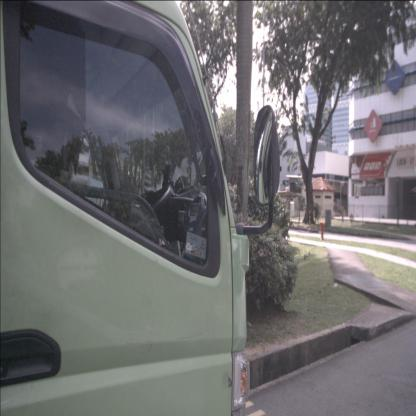human-pedestrian-adult: (314, 202, 319, 224)
vehicle-truck: (0, 0, 250, 416)
